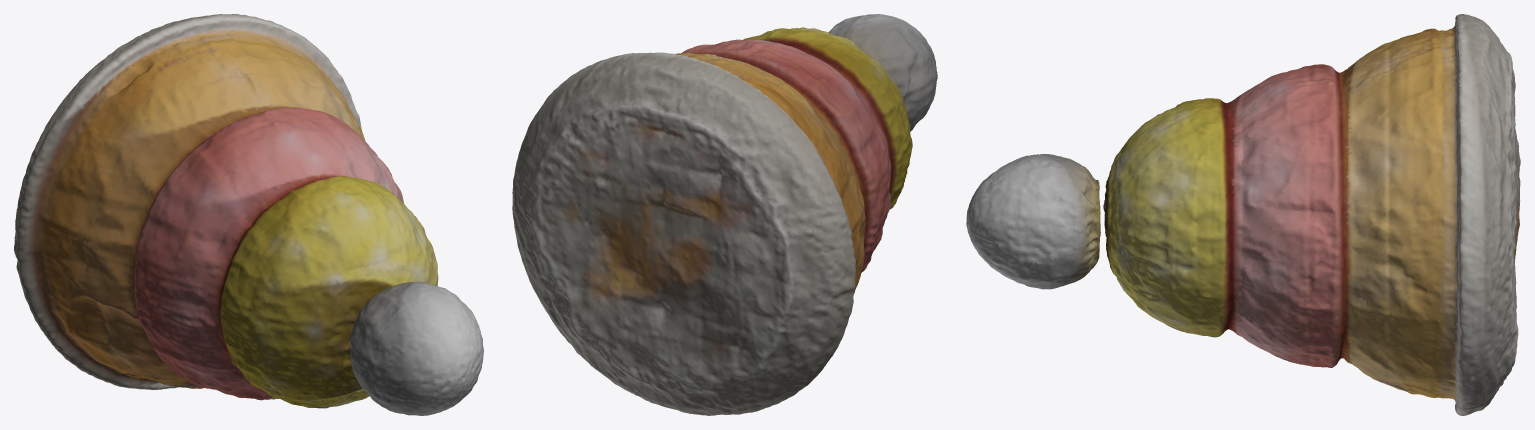
Rendered from chicken.glb.
The picture shows the model from 3 angles, left to right: view 1: azimuth 30°, elevation 25°; view 2: azimuth 150°, elevation 25°; view 3: azimuth 270°, elevation 25°; orthographic projection. The views are drawn at different scales.
Size of the model in its own units: 0.7258 by 0.7269 by 1.
